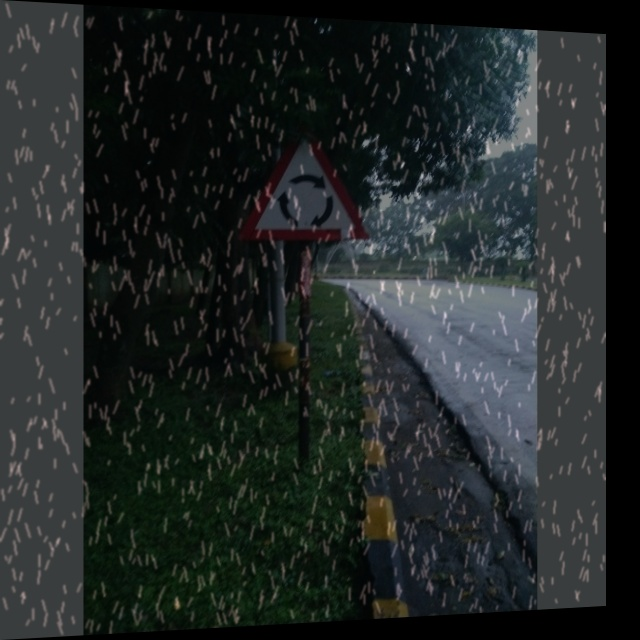Round_About: (232, 122, 372, 251)
